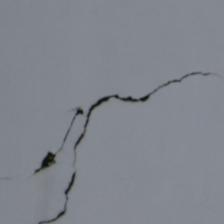Crack: (0, 0, 97, 84), (117, 27, 170, 118), (85, 61, 138, 99)
